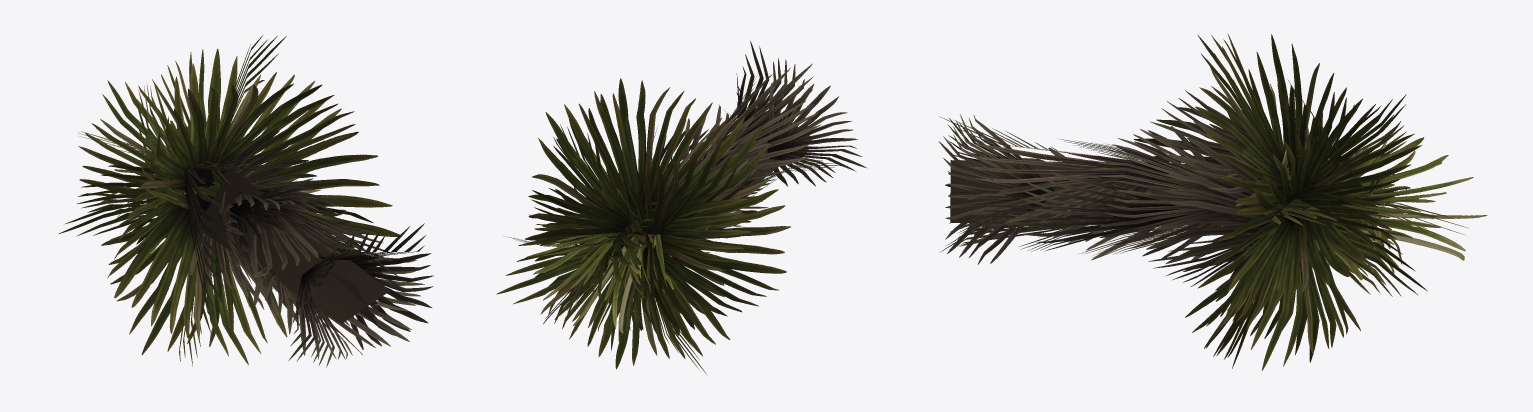
The model's file is MEP_Pandani_01_LOD_01.fbx.
The picture shows the model from 3 angles, left to right: view 1: azimuth 30°, elevation 25°; view 2: azimuth 150°, elevation 25°; view 3: azimuth 270°, elevation 25°; orthographic projection. The views are drawn at different scales.
Visible parts, largest first — view 1: MEP_Pandani_01_LOD_01; view 2: MEP_Pandani_01_LOD_01; view 3: MEP_Pandani_01_LOD_01.
Part boxes in pixels (left/top/right/bottom): MEP_Pandani_01_LOD_01: left=59, top=35, right=433, bottom=367; MEP_Pandani_01_LOD_01: left=496, top=41, right=866, bottom=375; MEP_Pandani_01_LOD_01: left=939, top=33, right=1487, bottom=370.
Size of the model in its own units: 3.53 by 3.33 by 5.15.
